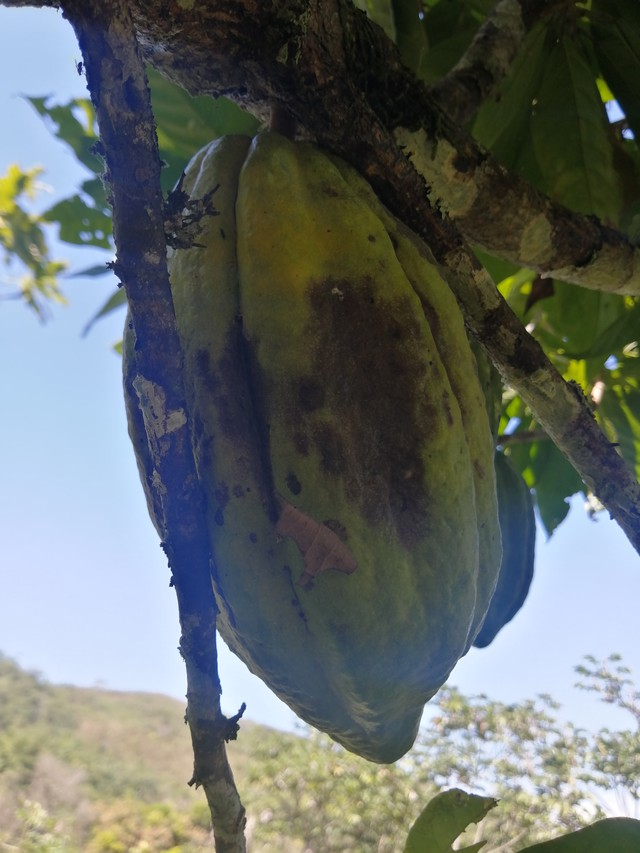moniliophthora perniciosa: (98, 120, 511, 773)
